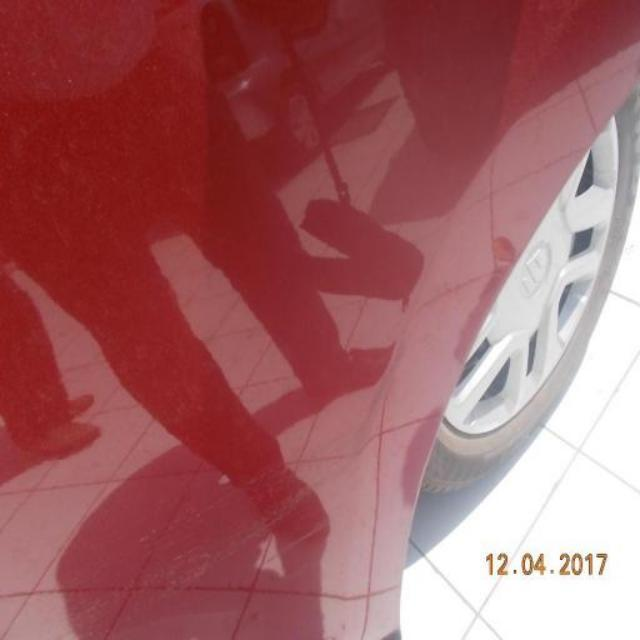dent: (52, 314, 422, 640)
